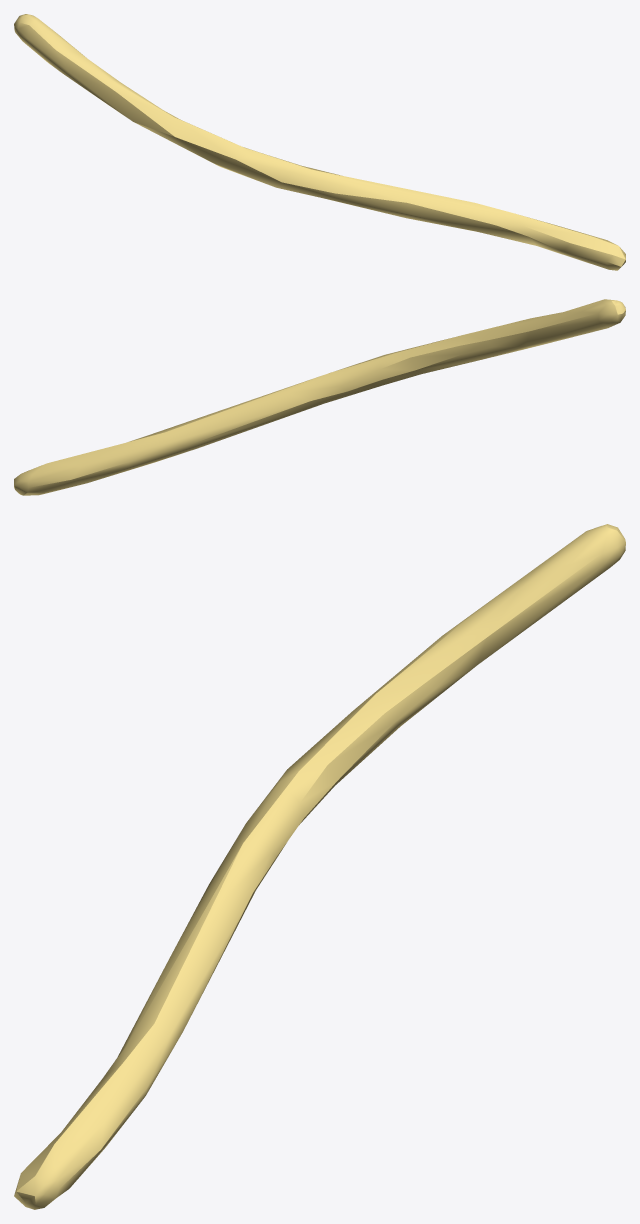
Rendered from fma52674_fj3909.glb.
3 renders of one model, top to bottom at view 1: azimuth 30°, elevation 25°; view 2: azimuth 210°, elevation 25°; view 3: azimuth 270°, elevation 25°, orthographic. The views are drawn at different scales.
Parts seen in each view (by area): view 1: FMA52674_FJ3909; view 2: FMA52674_FJ3909; view 3: FMA52674_FJ3909.
Part boxes in pixels (box(x1,y1,x2,y2)): FMA52674_FJ3909: box(14, 14, 625, 270); FMA52674_FJ3909: box(14, 299, 625, 495); FMA52674_FJ3909: box(14, 524, 625, 1209).
Size of the model in its own units: 0.00824 by 0.00409 by 0.00628.
